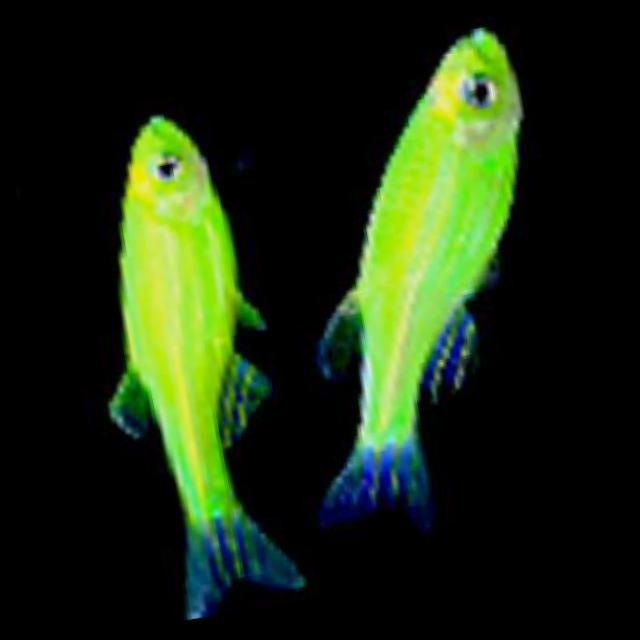ZebraFish: (244, 19, 588, 540), (54, 106, 312, 629)
